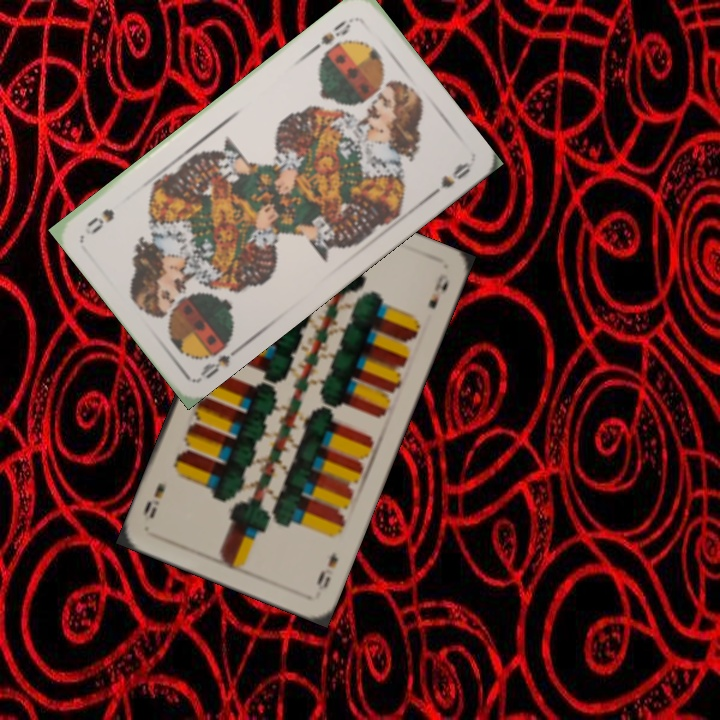E9: (312, 548, 341, 591)
SO: (195, 331, 246, 382), (307, 13, 359, 55)
